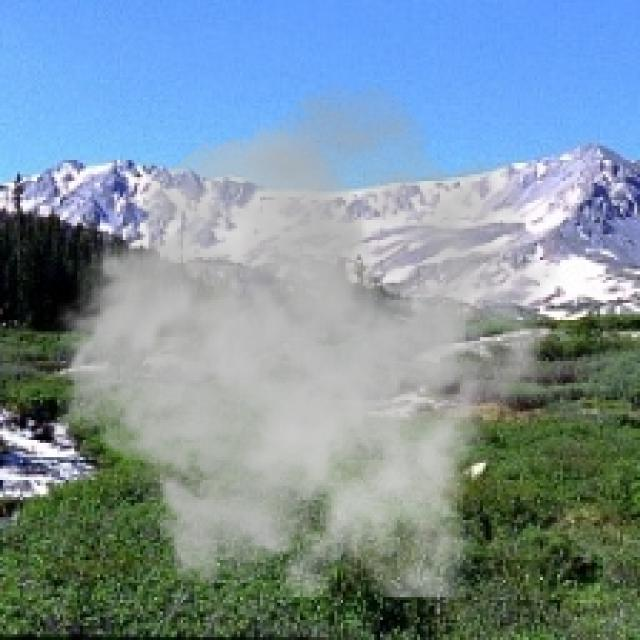smoke: (46, 83, 563, 597)
